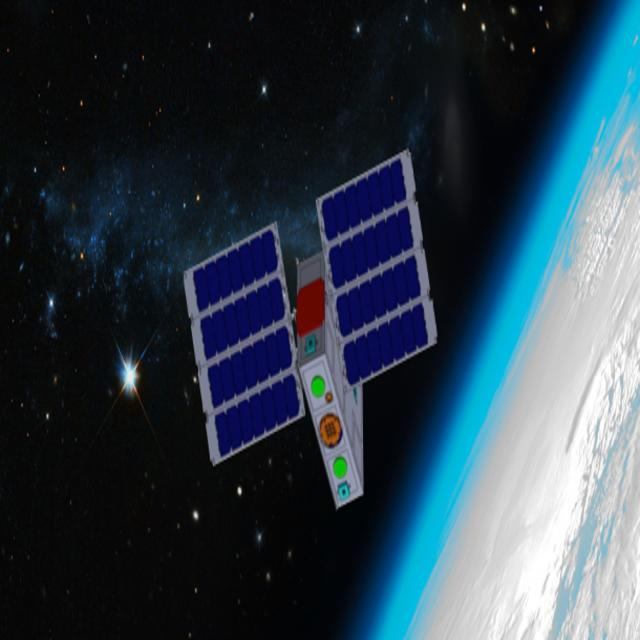medium_debris: (174, 123, 448, 524)
